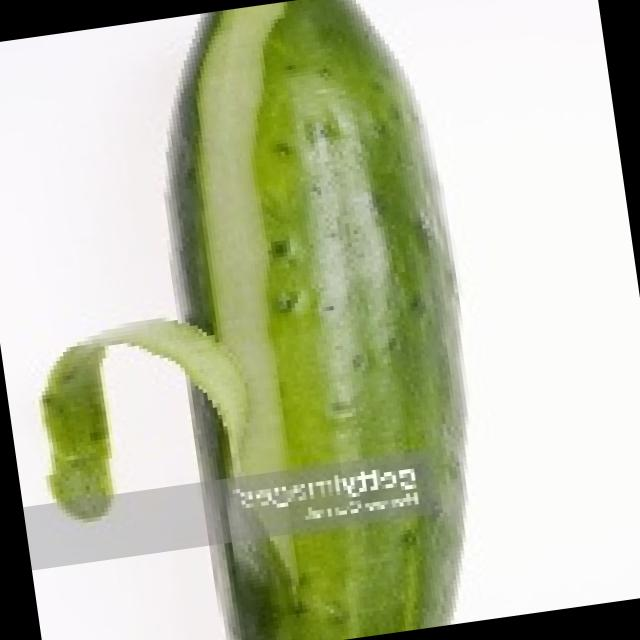cucumber: (132, 0, 504, 640)
